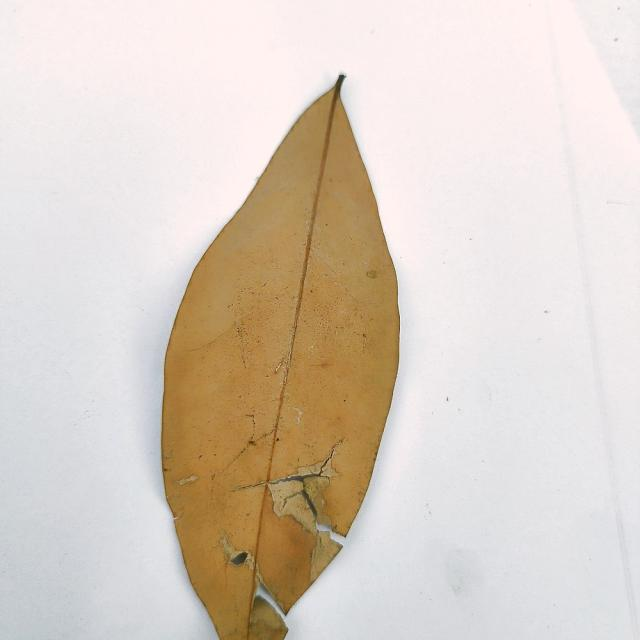Dry_Leaf-Lychee: (160, 79, 402, 639)
